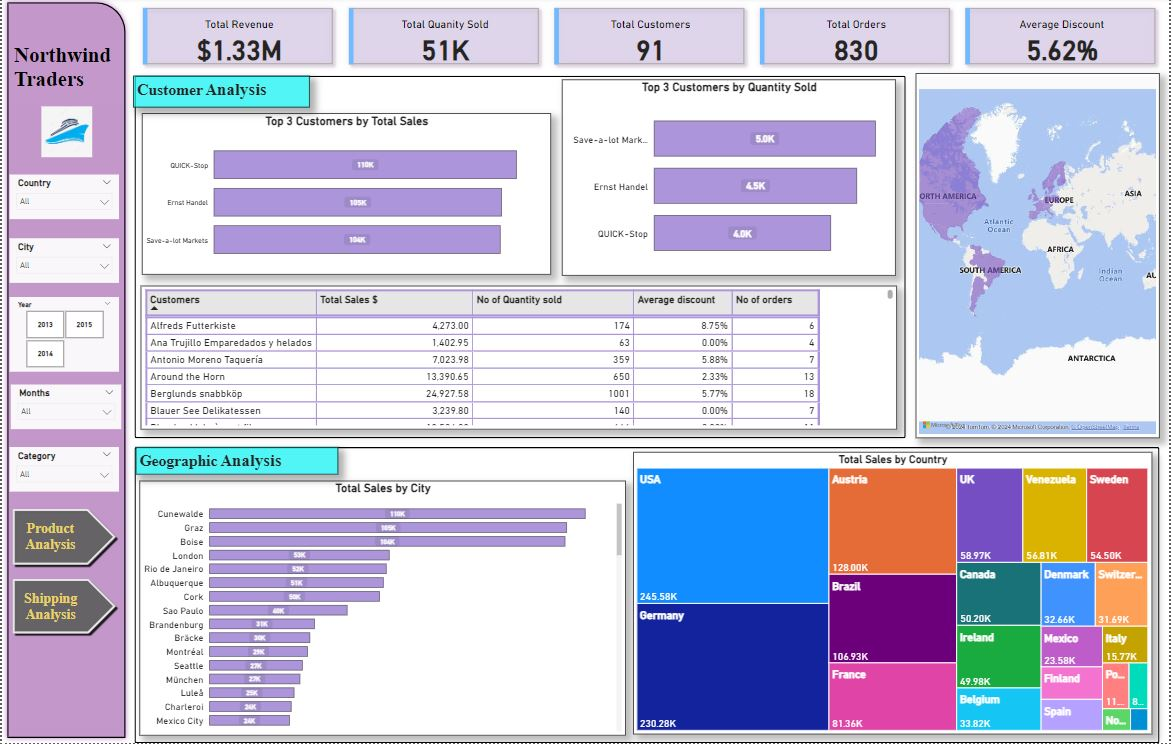

The dashboard page shown, as its layout file describes it:
{"tool":"powerbi","page":{"name":"Customer Analysis","canvas":[1800,1150],"ordinal":1},"visuals":[{"type":"shape","box":[0,0,198.5,1150.4],"z":0,"group":"g1"},{"type":"cardVisual","fields":{"Data":["Measure_table.Total Revenue","Measure_table.Total Quanity Sold","Measure_table.Total_customers","Measure_table.Total_orders","Measure_table.Average discount"]},"box":[200.4,0,1599.4,121.4],"z":0},{"type":"shape","box":[203.6,120.6,1188.9,558.8],"z":0,"group":"g2"},{"type":"shape","box":[203.8,693.7,1580.1,456.7],"z":0,"group":"g3"},{"type":"filledMap","fields":{"Category":["customers.country"]},"box":[1408.6,117.5,375.8,562.7],"z":1000},{"type":"textbox","box":[202.3,121.4,271.9,48.9],"z":1000,"group":"g2"},{"type":"group","id":"g1","title":"Group 3","box":[0,0,198.5,1150.4],"z":2000},{"type":"barChart","title":"Top 3 Customers by Total Sales","fields":{"Y":["Sum(order_details.Total Price)"],"Category":["customers.companyName"]},"box":[215.2,179.1,630.1,248.6],"z":2000,"group":"g2"},{"type":"group","id":"g2","title":"Group 1","box":[202.3,120.6,1190.2,558.8],"z":3000},{"type":"slicer","fields":{"Values":["customers.city"]},"box":[11.5,372.4,168.6,68.9],"z":3000,"group":"g1"},{"type":"tableEx","fields":{"Values":["customers.companyName","Sum(order_details.Total Price)","order_details.quantity","Measure_table.Average discount","order_details.orderID"]},"box":[213.2,445,1165.8,221.6],"z":3000,"group":"g2"},{"type":"barChart","title":"Top 3 Customers by Quantity Sold","fields":{"Category":["customers.companyName"],"Y":["Sum(order_details.quantity)"]},"box":[862.6,127.1,514.5,302.5],"z":4000,"group":"g2"},{"type":"slicer","fields":{"Values":["customers.country"]},"box":[11.5,272.8,168.6,68.9],"z":4000,"group":"g1"},{"type":"group","id":"g3","title":"Group 2","box":[203.8,693.7,1580.1,456.7],"z":4000},{"type":"slicer","fields":{"Values":["Date.Years"]},"box":[11.5,462.3,168.6,114.8],"z":5000,"group":"g1"},{"type":"textbox","box":[205.7,694.2,312.2,42.4],"z":5000,"group":"g3"},{"type":"slicer","fields":{"Values":["Date.Months"]},"box":[13.4,598.2,170.6,68.9],"z":6000,"group":"g1"},{"type":"textbox","box":[13.4,66.1,170.6,103.4],"z":7000,"group":"g1"},{"type":"actionButton","box":[11.5,783.9,168.6,95.7],"z":8000,"group":"g1"},{"type":"actionButton","box":[11.5,893,168.6,93.8],"z":9000,"group":"g1"},{"type":"barChart","title":"Total Sales by City","fields":{"Category":["customers.city"],"Y":["Sum(order_details.Total Price)"]},"box":[212,746.2,749.6,393.1],"z":10000,"group":"g3"},{"type":"treemap","title":"Total Sales by Country","fields":{"Group":["customers.country"],"Values":["Sum(order_details.Total Price)"]},"box":[973.1,701.9,799.7,435.5],"z":11000,"group":"g3"},{"type":"image","box":[13.4,163.7,172.5,88],"z":12000,"group":"g1"},{"type":"slicer","fields":{"Values":["categories.categoryName"]},"box":[11.5,693.9,168.6,68.9],"z":13000,"group":"g1"}]}

Visuals, with their boxes in screenshot pixels (x1, y1, x2, y2), scaled from the page's 1800x1150 canvas onto the 1173x744 screenshot:
shape: 0, 0, 129, 743
cardVisual - Measure_table.Total Revenue x Measure_table.Total Quanity Sold: 131, 0, 1172, 79
shape: 133, 78, 907, 440
shape: 133, 449, 1163, 743
filledMap - customers.country: 918, 76, 1163, 440
textbox: 132, 79, 309, 110
"Group 3" group: 0, 0, 129, 743
"Top 3 Customers by Total Sales" barChart: 140, 116, 551, 277
"Group 1" group: 132, 78, 907, 440
slicer - customers.city: 7, 241, 117, 286
tableEx - customers.companyName x Sum(order_details.Total Price): 139, 288, 899, 431
"Top 3 Customers by Quantity Sold" barChart: 562, 82, 897, 278
slicer - customers.country: 7, 176, 117, 221
"Group 2" group: 133, 449, 1163, 743
slicer - Date.Years: 7, 299, 117, 373
textbox: 134, 449, 337, 477
slicer - Date.Months: 9, 387, 120, 432
textbox: 9, 43, 120, 110
actionButton: 7, 507, 117, 569
actionButton: 7, 578, 117, 638
"Total Sales by City" barChart: 138, 483, 627, 737
"Total Sales by Country" treemap: 634, 454, 1155, 736
image: 9, 106, 121, 163
slicer - categories.categoryName: 7, 449, 117, 493
